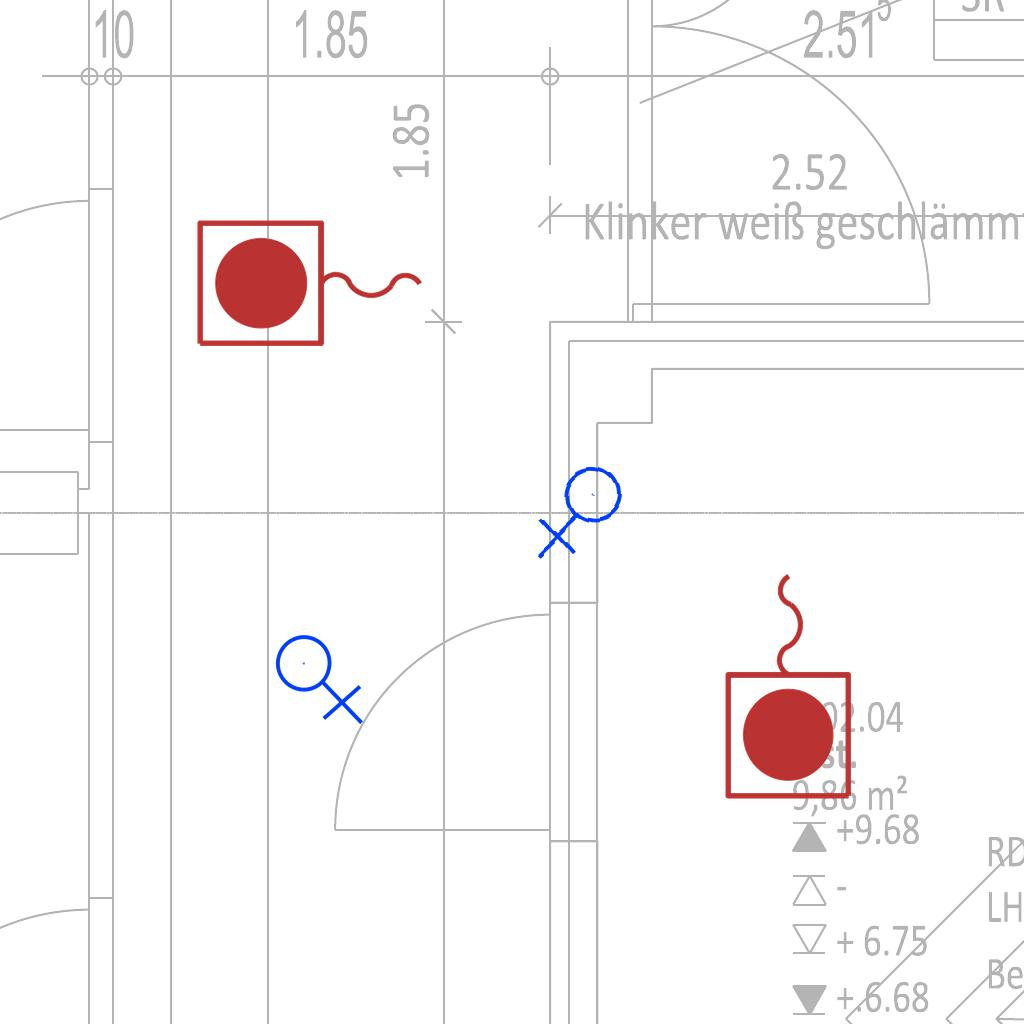Elektroanschluss_allgemein_230V_Geraeteanschlussdose_230V: (529, 461, 636, 565), (274, 626, 368, 725)
Zugtaster: (718, 563, 862, 807), (189, 213, 433, 357)
